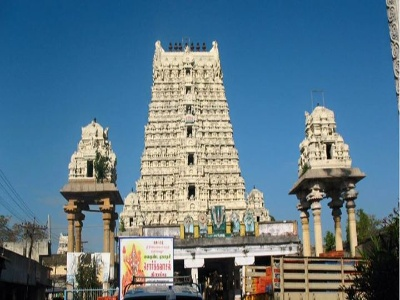gopura: (123, 54, 266, 220)
